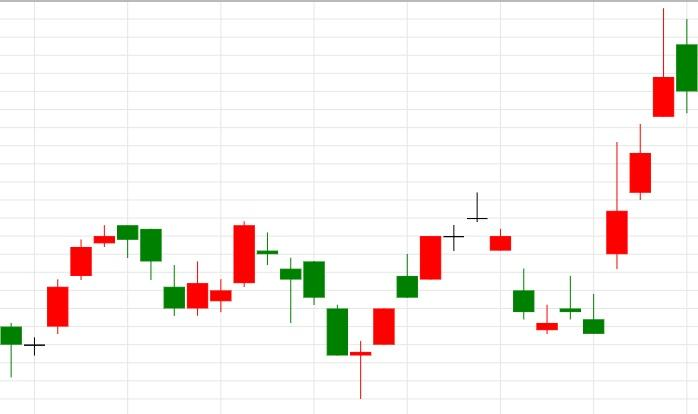morning_star_rise: (233, 222, 396, 399)
